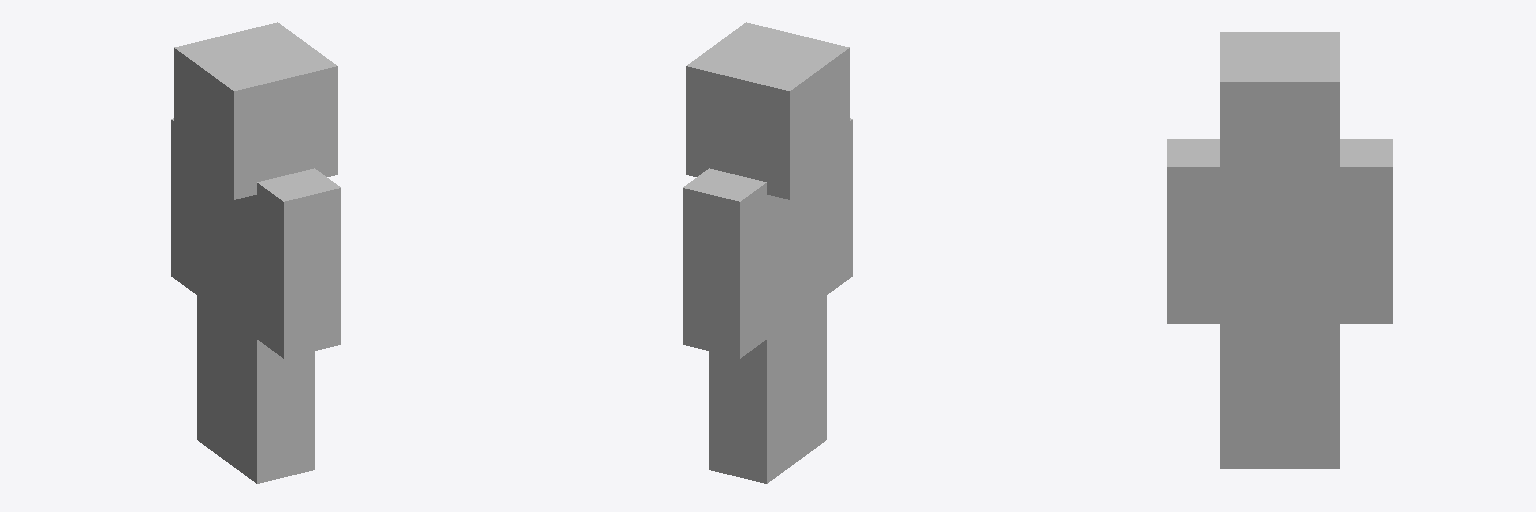
The model's file is Player.obj.
3 views of the same model, side by side, from view 1: azimuth 30°, elevation 25°; view 2: azimuth 150°, elevation 25°; view 3: azimuth 270°, elevation 25° (orthographic).
Visible parts, largest first — view 1: HeadOut, RArmOut, RLegOut, BodyOut, LLegOut, LArmOut; view 2: HeadOut, LArmOut, LLegOut, BodyOut, RLegOut, RArmOut; view 3: HeadOut, BodyOut, LArmOut, RArmOut, RLegOut, LLegOut.
Boxes of the visible parts, <box> form: HeadOut: <box>174,22,337,199</box>; RArmOut: <box>250,168,340,358</box>; RLegOut: <box>229,310,314,483</box>; BodyOut: <box>197,173,256,338</box>; LLegOut: <box>197,284,229,463</box>; LArmOut: <box>171,118,203,294</box>; HeadOut: <box>686,22,849,199</box>; LArmOut: <box>683,168,773,358</box>; LLegOut: <box>709,303,799,483</box>; BodyOut: <box>767,173,826,330</box>; RLegOut: <box>794,296,826,463</box>; RArmOut: <box>820,118,852,299</box>; HeadOut: <box>1220,32,1339,190</box>; BodyOut: <box>1220,191,1339,323</box>; LArmOut: <box>1327,139,1392,323</box>; RArmOut: <box>1167,139,1232,323</box>; RLegOut: <box>1220,312,1286,468</box>; LLegOut: <box>1276,312,1339,468</box>.
Bounding box in the file's own units: 180 × 660 × 340.